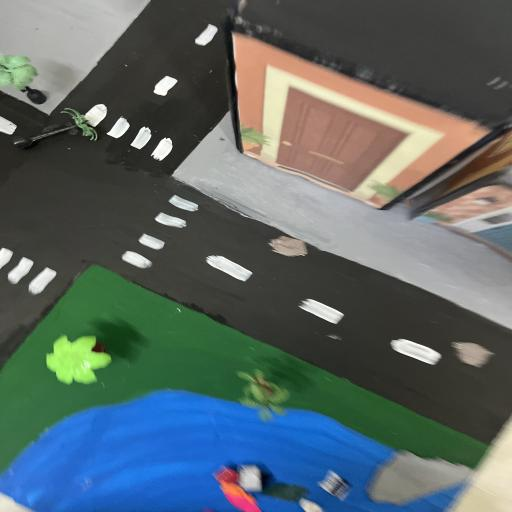encroachment: (366, 448, 478, 505)
fallen trees: (13, 106, 102, 149)
porthole: (265, 232, 311, 258)
trash: (205, 459, 353, 512)
